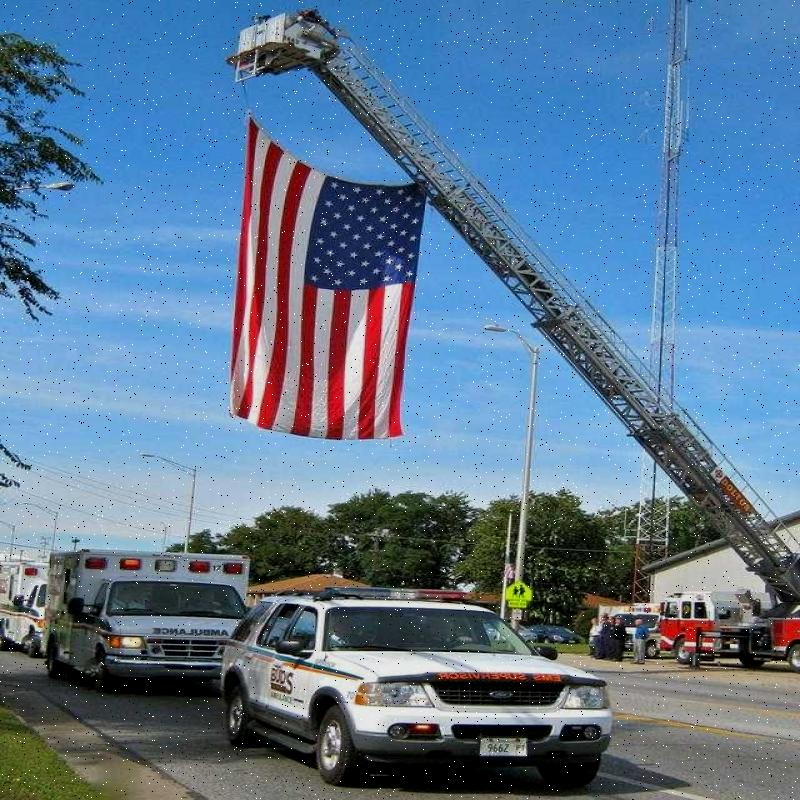AmbulanceSiren: (301, 564, 517, 614)
